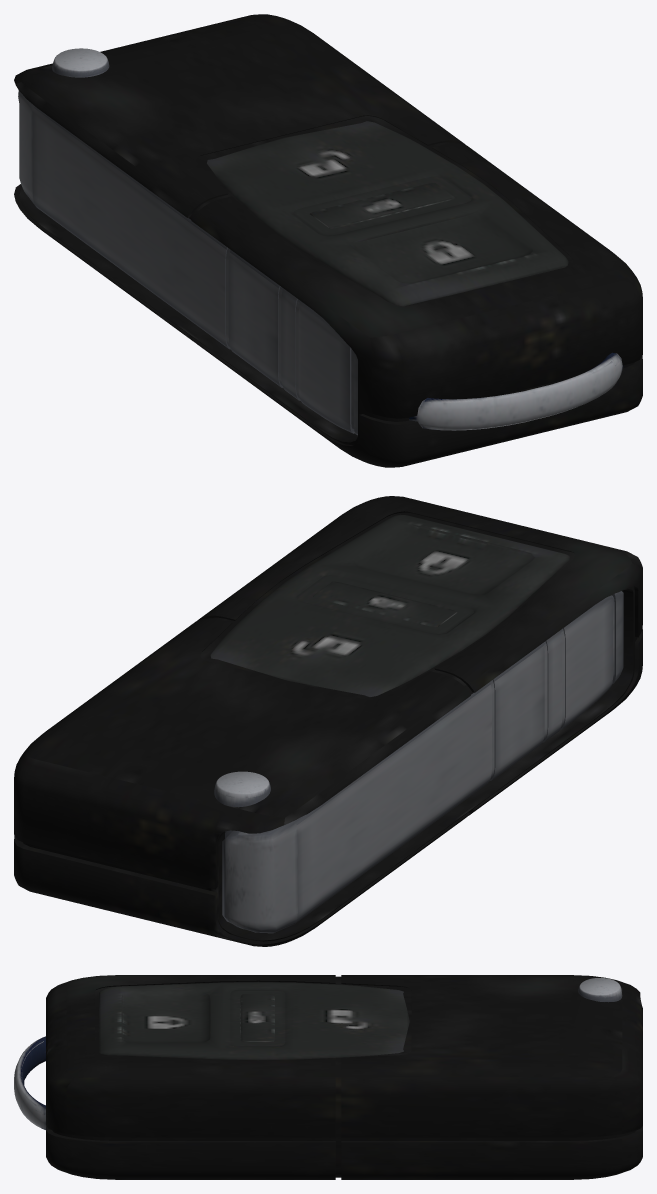
The picture shows the model from 3 angles, top to bottom: view 1: azimuth 30°, elevation 25°; view 2: azimuth 150°, elevation 25°; view 3: azimuth 270°, elevation 25°; orthographic projection. The views are drawn at different scales.
Visible parts, largest first — view 1: Body, Keypad, Key, back, Cylinder; view 2: Body, Key, Keypad, Cylinder; view 3: Body, Keypad, back, Cylinder.
Part boxes in pixels (left/top/right/bottom): Body: left=14, top=14, right=642, bottom=467; Keypad: left=207, top=121, right=568, bottom=306; Key: left=18, top=90, right=357, bottom=435; back: left=409, top=352, right=623, bottom=430; Cylinder: left=52, top=48, right=109, bottom=77; Body: left=14, top=496, right=642, bottom=946; Key: left=222, top=591, right=623, bottom=933; Keypad: left=210, top=514, right=570, bottom=696; Cylinder: left=214, top=771, right=270, bottom=929; Body: left=46, top=975, right=642, bottom=1179; Keypad: left=99, top=982, right=409, bottom=1060; back: left=14, top=1036, right=45, bottom=1129; Cylinder: left=578, top=978, right=622, bottom=1002.
Bounding box in the file's own units: 0.8119 × 0.4144 × 2.
Materials: 5 (5 with a texture image).
